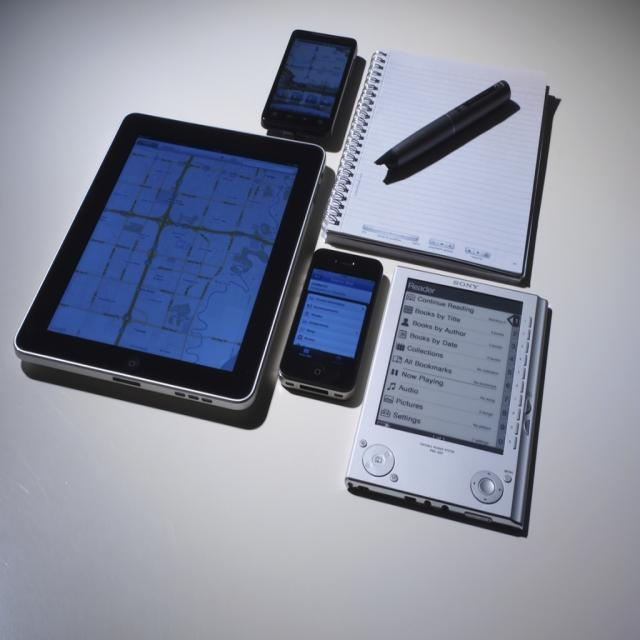Mobile-phone: (278, 232, 378, 404), (259, 25, 359, 139)
